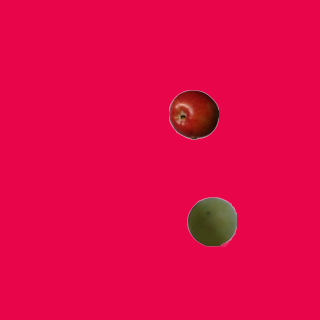Apple Braeburn: (168, 89, 218, 139)
Grape White 4: (186, 196, 236, 246)
